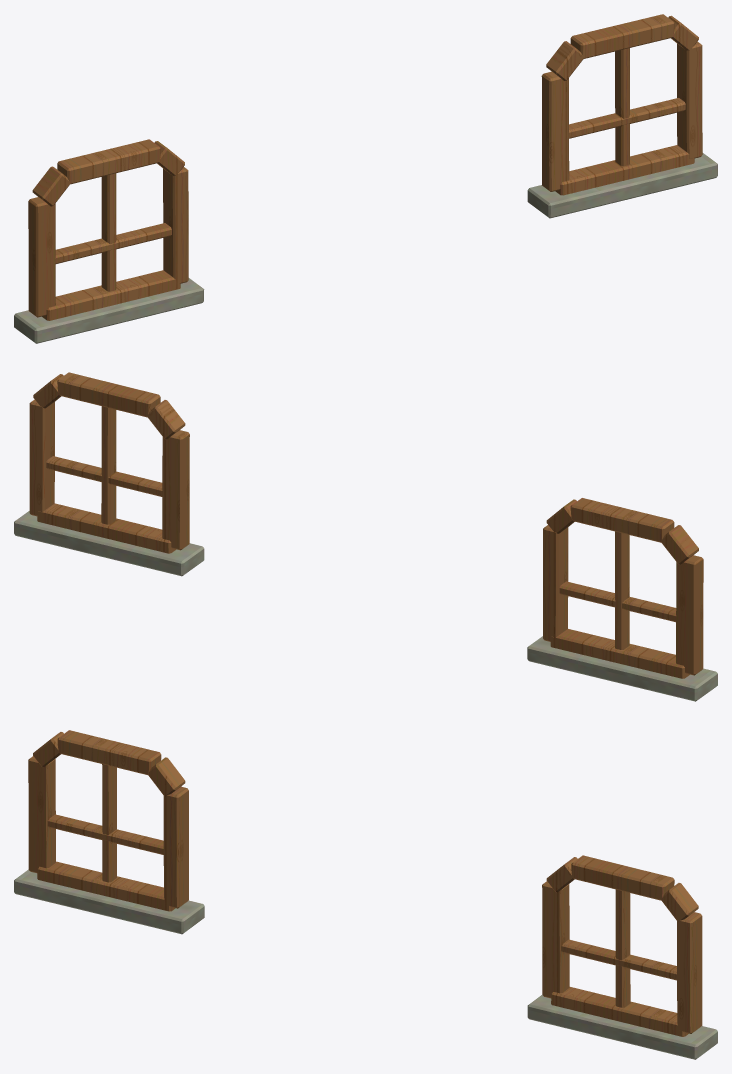
File: SM_HH_Q3_Windows_CameraSide.fbx
The picture shows the model from 3 angles, top to bottom: view 1: azimuth 30°, elevation 25°; view 2: azimuth 150°, elevation 25°; view 3: azimuth 330°, elevation 25°; orthographic projection.
Parts seen in each view (by area): view 1: HH_Q3_Windows_CameraSide; view 2: HH_Q3_Windows_CameraSide; view 3: HH_Q3_Windows_CameraSide.
Part boxes in pixels (x1=…): HH_Q3_Windows_CameraSide: x1=14, y1=14, x2=717, y2=343; HH_Q3_Windows_CameraSide: x1=14, y1=372, x2=717, y2=701; HH_Q3_Windows_CameraSide: x1=14, y1=730, x2=717, y2=1059.
Size of the model in its own units: 0.3544 by 6.12 by 1.39.
